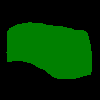mutande: (6, 22, 92, 79)
